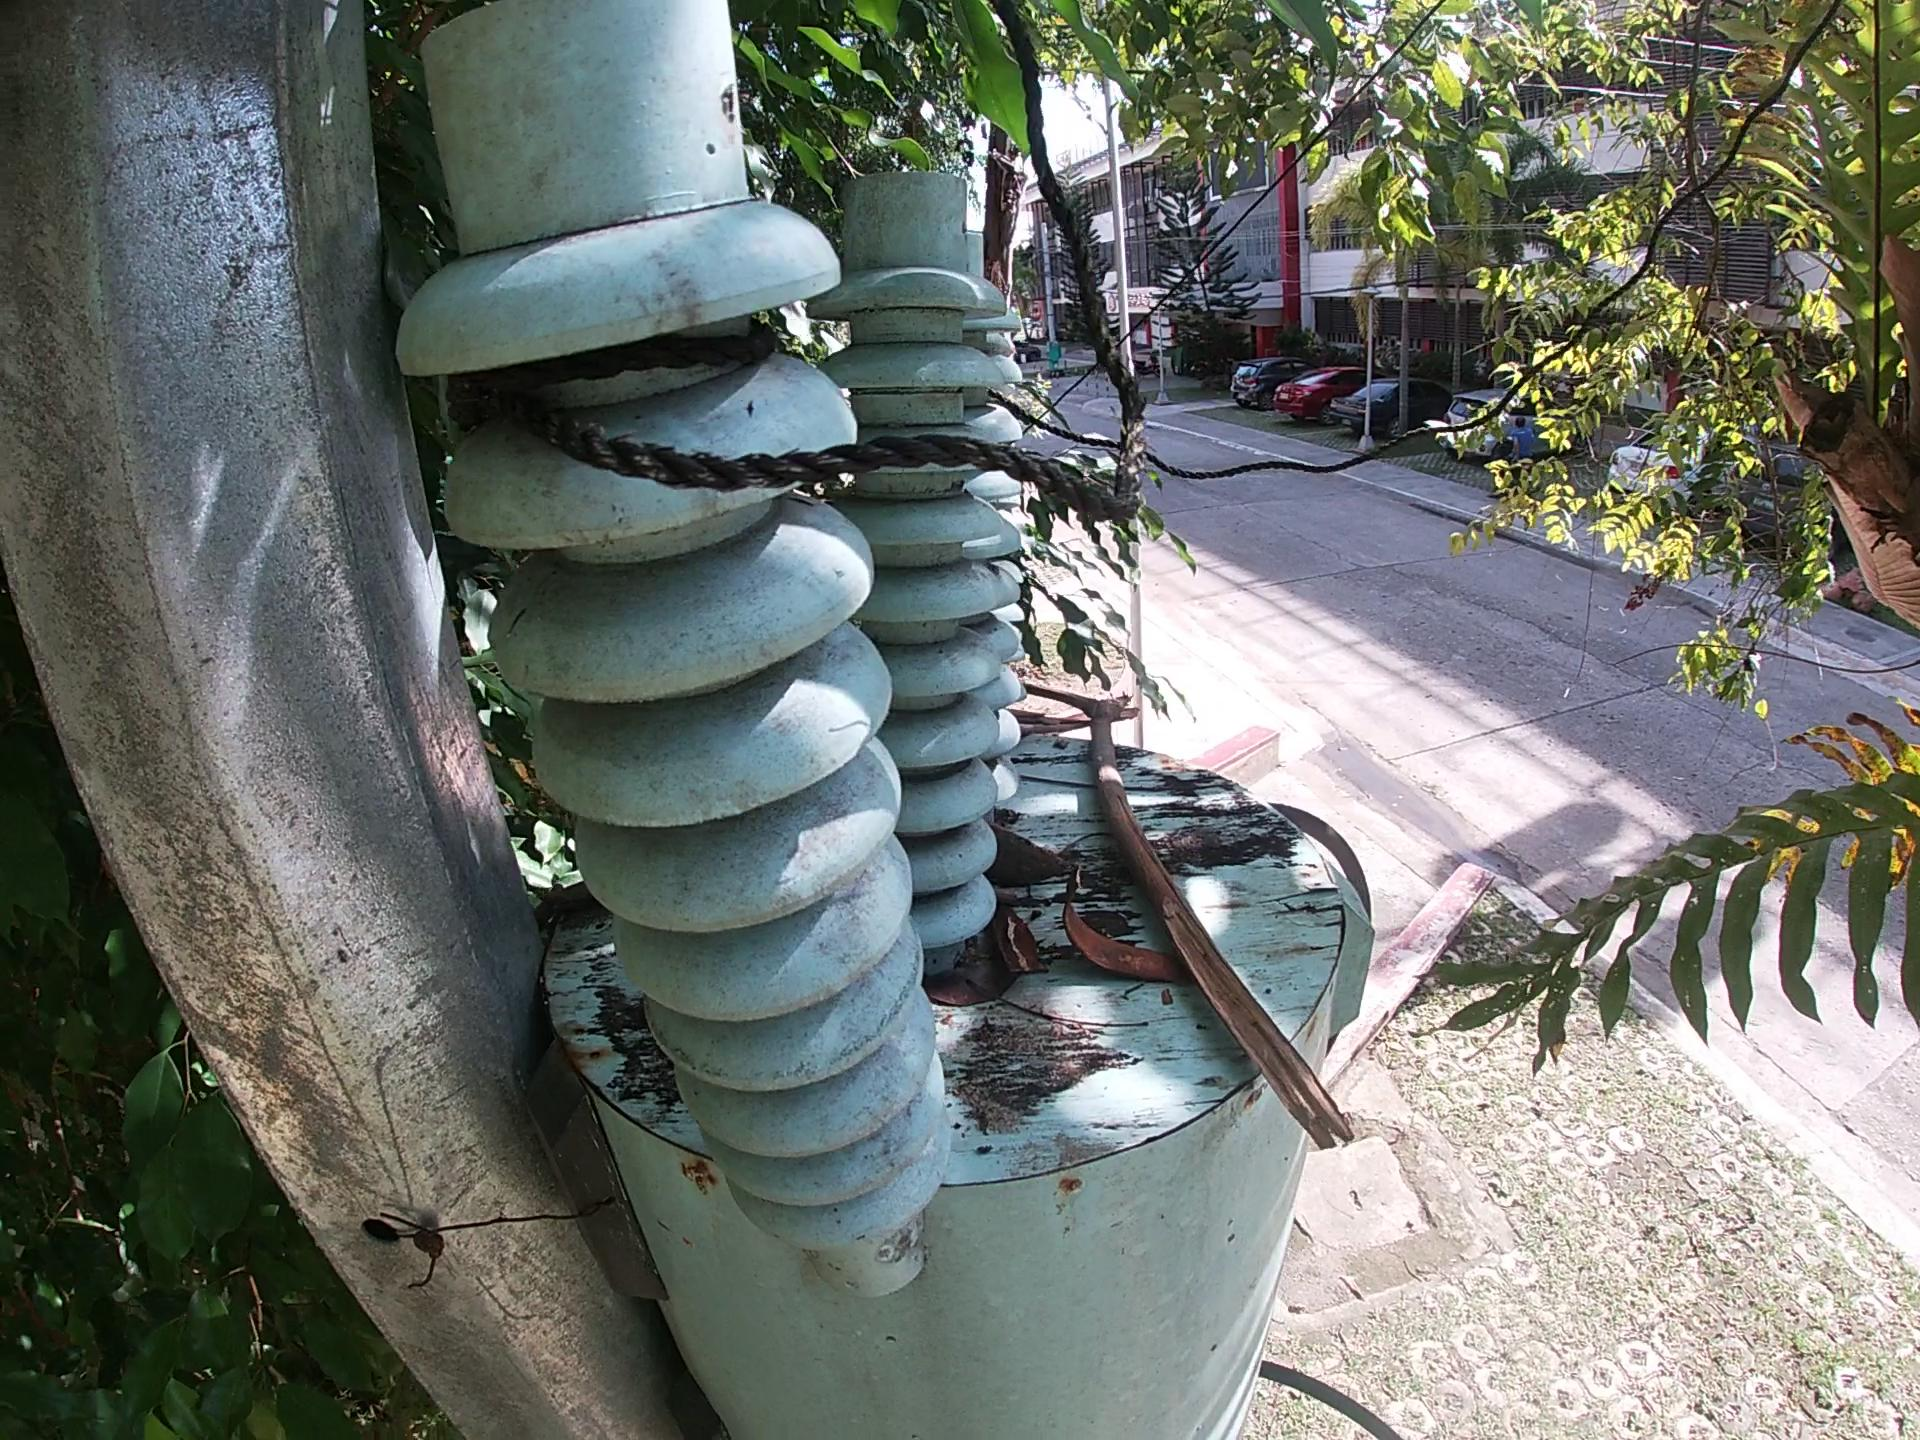leaf: (919, 957, 1002, 1021)
mahogany fruit: (1057, 856, 1178, 989), (990, 820, 1057, 886)
tree branch: (1019, 681, 1382, 1189), (1005, 989, 1143, 1039), (1005, 706, 1092, 750), (1001, 909, 1039, 992), (1016, 767, 1093, 799), (1120, 773, 1223, 796), (987, 886, 1033, 903)
